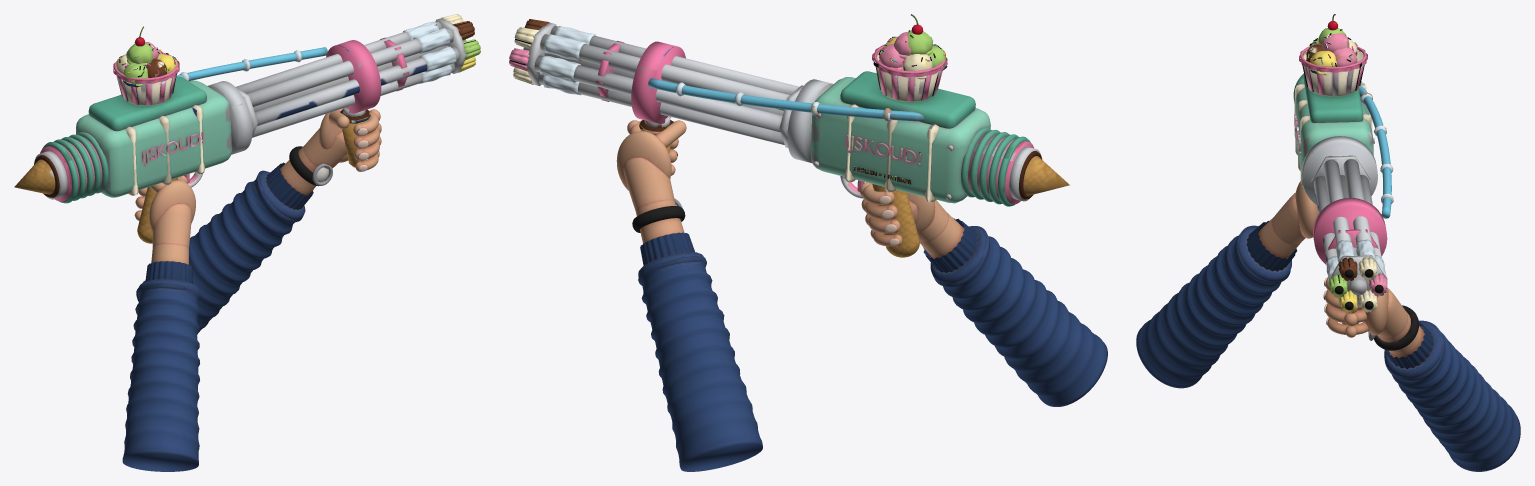
Rendered from ijsmachine.glb.
The picture shows the model from 3 angles, left to right: view 1: azimuth 30°, elevation 25°; view 2: azimuth 150°, elevation 25°; view 3: azimuth 270°, elevation 25°; orthographic projection. The views are drawn at different scales.
Visible parts, largest first — view 1: Ijsmachine_Arms, IJs_Body, IJs_Barrels, IJs_Scoops; view 2: Ijsmachine_Arms, IJs_Body, IJs_Barrels, IJs_Scoops; view 3: Ijsmachine_Arms, IJs_Body, IJs_Barrels, IJs_Scoops.
Part boxes in pixels (x1,y1,x2,y2): Ijsmachine_Arms: (122, 108, 381, 471); IJs_Body: (14, 40, 381, 243); IJs_Barrels: (236, 14, 480, 137); IJs_Scoops: (115, 26, 178, 87); Ijsmachine_Arms: (616, 120, 1107, 471); IJs_Body: (631, 41, 1069, 257); IJs_Barrels: (509, 19, 803, 147); IJs_Scoops: (878, 14, 947, 79); Ijsmachine_Arms: (1136, 181, 1520, 471); IJs_Body: (1293, 46, 1393, 324); IJs_Barrels: (1311, 155, 1387, 312); IJs_Scoops: (1306, 14, 1357, 75).
Size of the model in its own units: 0.9546 by 0.7463 by 0.6526.
1 material, 1 textured.
